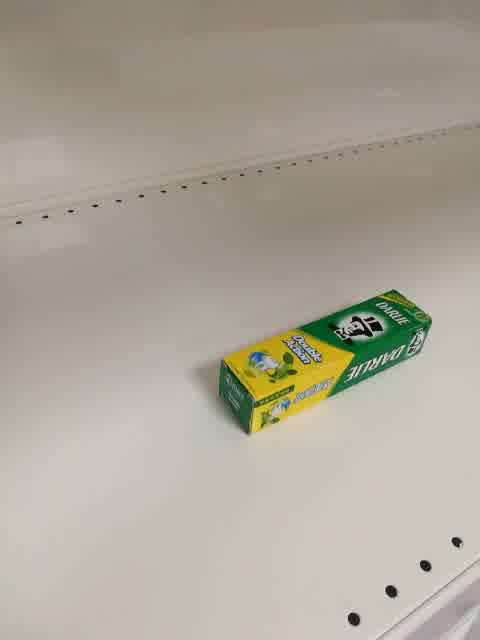toothpaste: (217, 290, 433, 435)
